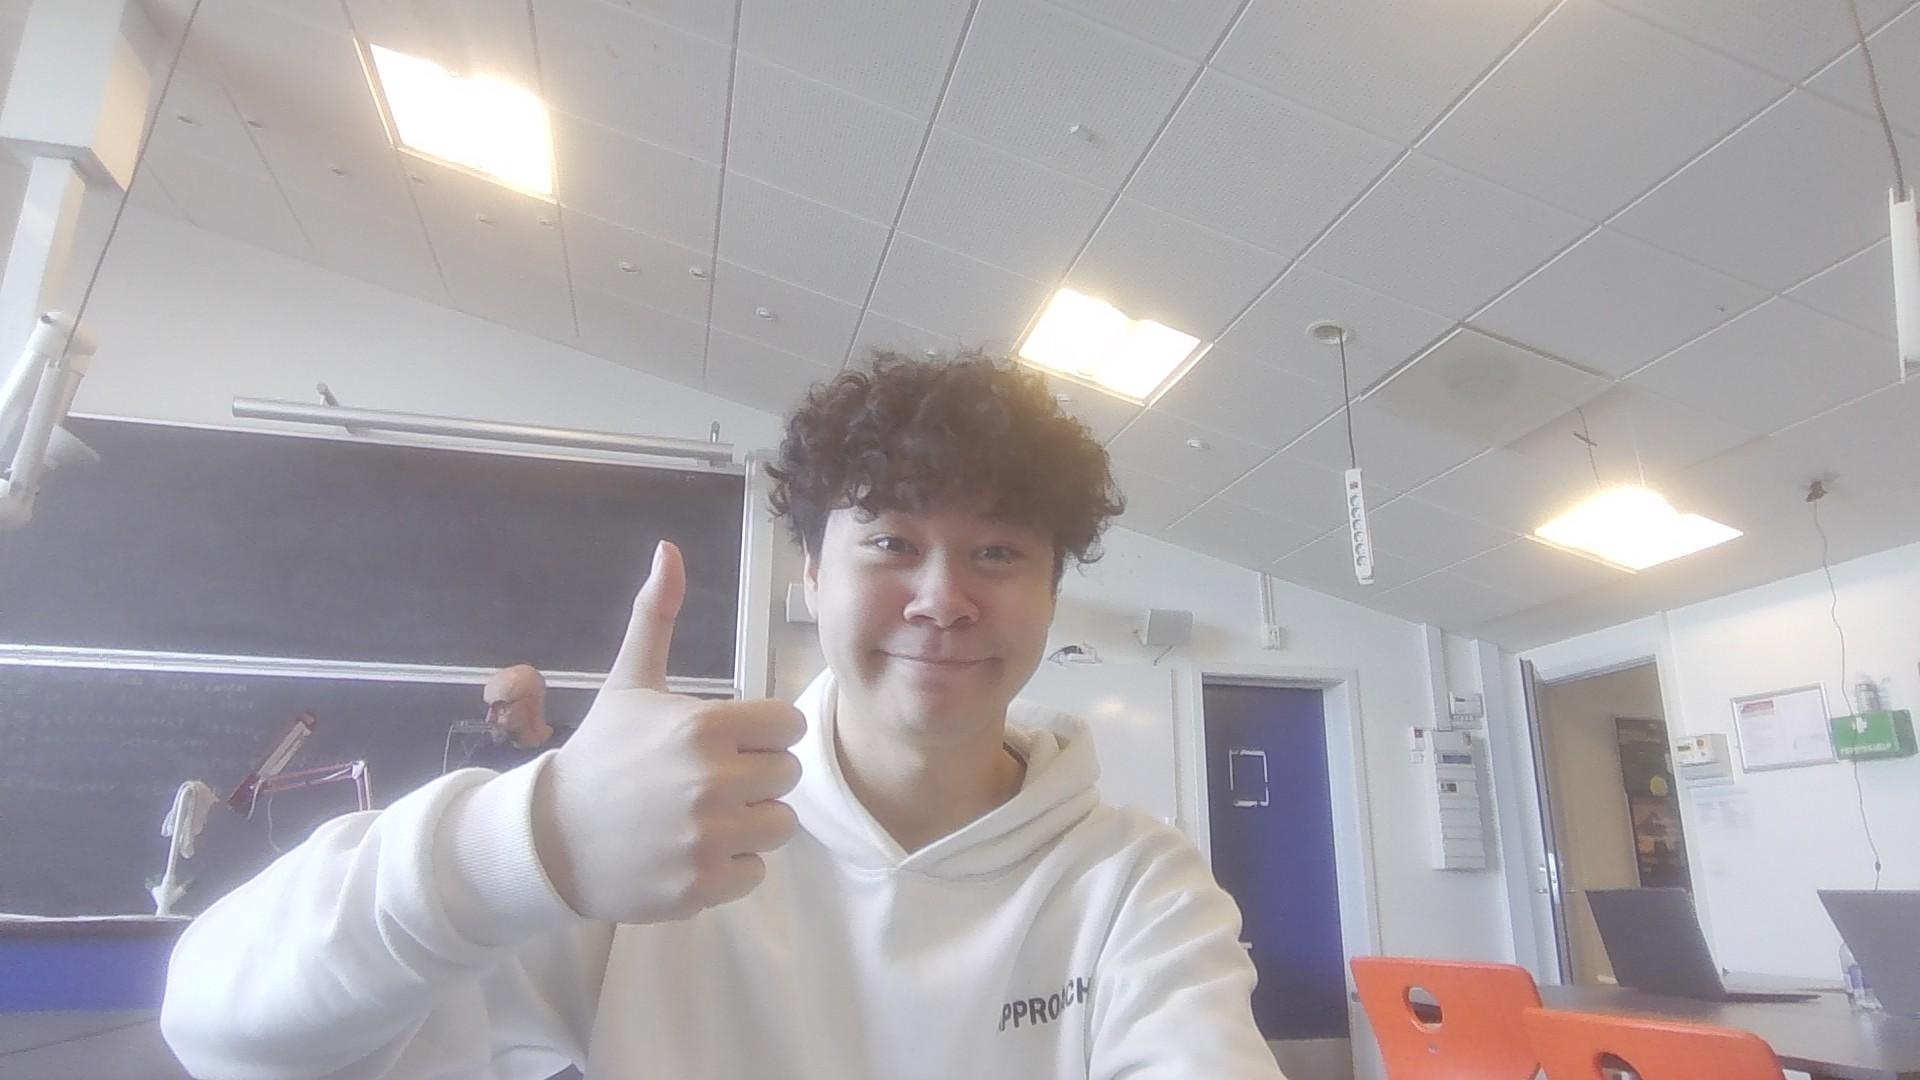thumbs up: (547, 531, 810, 915)
